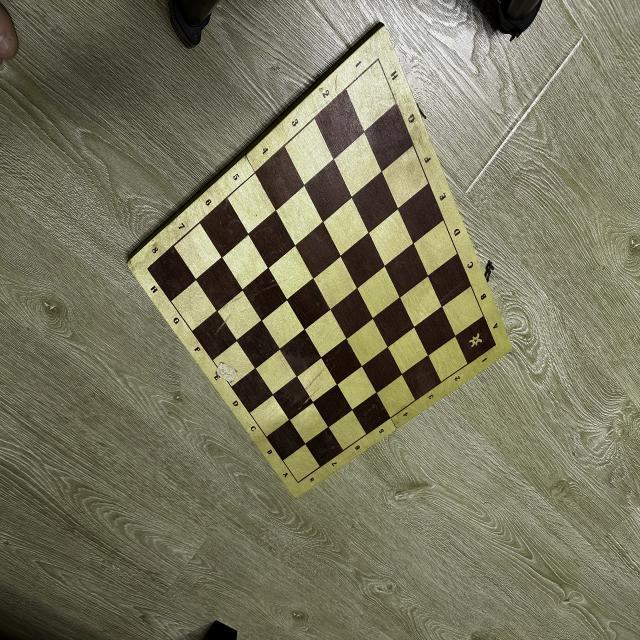chess-table-corners: (374, 55, 382, 64), (144, 264, 150, 273), (296, 478, 300, 486), (494, 342, 498, 348)
